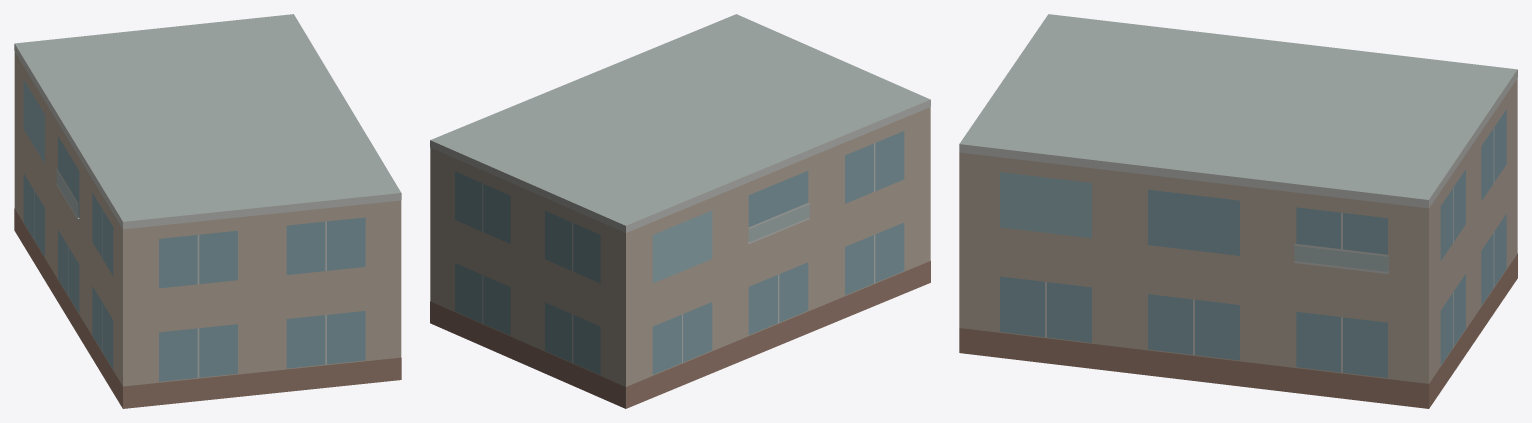
File: survey-upis-32691909.glb
The picture shows the model from 3 angles, left to right: view 1: azimuth 30°, elevation 25°; view 2: azimuth 150°, elevation 25°; view 3: azimuth 270°, elevation 25°; orthographic projection. The views are drawn at different scales.
Parts seen in each view (by area): view 1: survey-upis-32691909.tmp; view 2: survey-upis-32691909.tmp; view 3: survey-upis-32691909.tmp.
Boxes of the visible parts, left/top/right/bottom form: survey-upis-32691909.tmp: left=14, top=14, right=401, bottom=408; survey-upis-32691909.tmp: left=430, top=14, right=930, bottom=408; survey-upis-32691909.tmp: left=959, top=14, right=1517, bottom=408.
Bounding box in the file's own units: 11.66 × 6.1 × 14.79.
